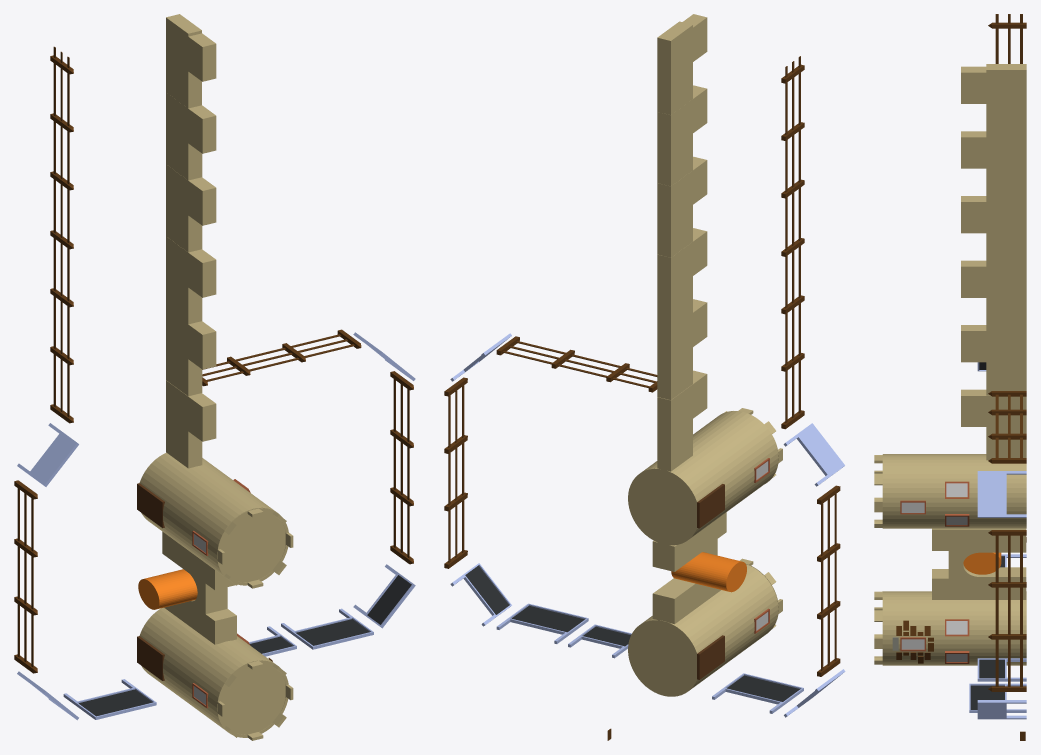
File: castle-hill-0-complex.obj
The picture shows the model from 3 angles, left to right: view 1: azimuth 30°, elevation 25°; view 2: azimuth 150°, elevation 25°; view 3: azimuth 270°, elevation 25°; orthographic projection. The views are drawn at different scales.
Parts seen in each view (by area): view 1: group_0_12759680, group_0_6306067, group_0_11452141, group_0_2829873, group_0_16089887, group_0_6175260; view 2: group_0_12759680, group_0_6306067, group_0_11452141, group_0_2829873, group_0_16089887, group_0_6175260; view 3: group_0_12759680, group_0_6306067, group_0_11452141, group_0_0, group_0_2829873, group_0_11558716, group_0_16089887.
Boxes of the visible parts, bbox=[...] form: group_0_12759680: bbox=[139, 14, 293, 740]; group_0_6306067: bbox=[14, 46, 413, 673]; group_0_11452141: bbox=[17, 332, 415, 720]; group_0_2829873: bbox=[79, 575, 411, 716]; group_0_16089887: bbox=[138, 569, 197, 609]; group_0_6175260: bbox=[137, 483, 164, 680]; group_0_12759680: bbox=[628, 14, 782, 696]; group_0_6306067: bbox=[444, 56, 840, 740]; group_0_11452141: bbox=[450, 333, 845, 717]; group_0_2829873: bbox=[465, 565, 799, 701]; group_0_16089887: bbox=[671, 552, 746, 592]; group_0_6175260: bbox=[697, 484, 724, 679]; group_0_12759680: bbox=[874, 64, 1026, 665]; group_0_6306067: bbox=[896, 14, 1026, 740]; group_0_11452141: bbox=[969, 362, 1026, 719]; group_0_0: bbox=[901, 483, 967, 661]; group_0_2829873: bbox=[970, 362, 1004, 709]; group_0_11558716: bbox=[900, 481, 969, 663]; group_0_16089887: bbox=[963, 552, 1001, 574].
Bounding box in the file's own units: 137 × 249 × 53.
